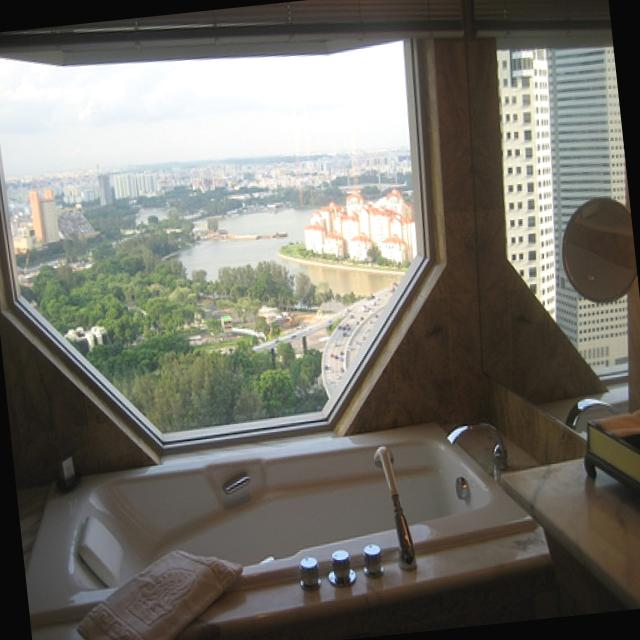Vehicle: (273, 340, 297, 370), (342, 332, 348, 338), (360, 316, 364, 321), (333, 354, 338, 358), (350, 314, 354, 318), (356, 321, 360, 324)
